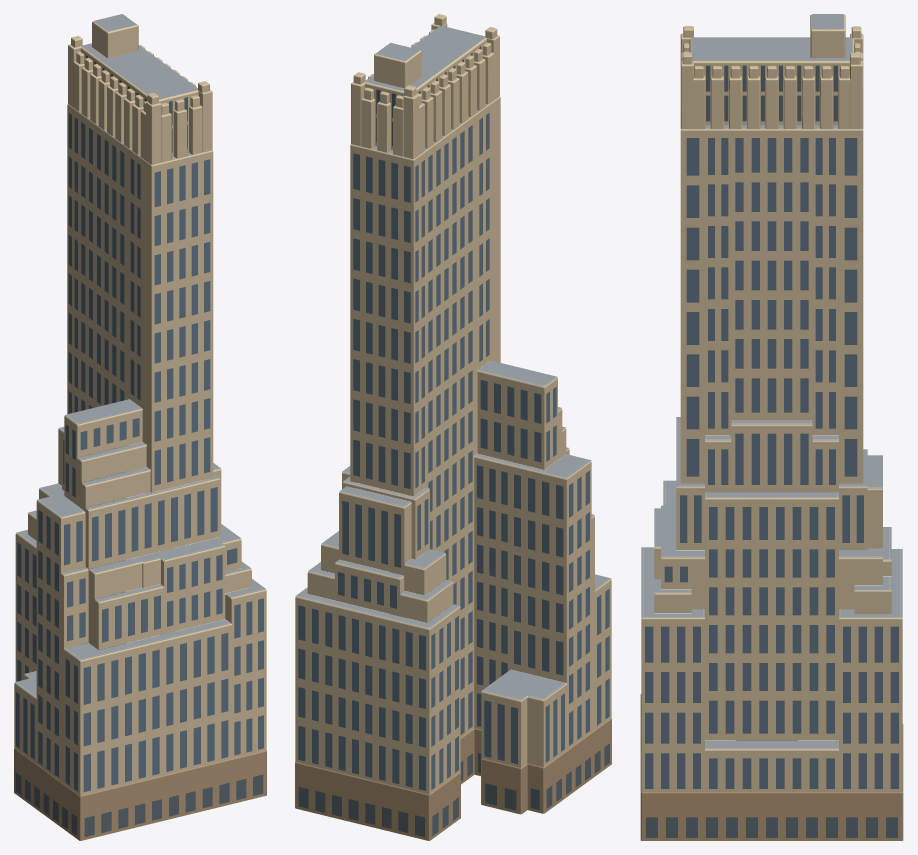
Rendered from nyc-chanin-building.glb.
The picture shows the model from 3 angles, left to right: view 1: azimuth 30°, elevation 25°; view 2: azimuth 150°, elevation 25°; view 3: azimuth 270°, elevation 25°; orthographic projection. The views are drawn at different scales.
Parts seen in each view (by area): view 1: Chanin Building; view 2: Chanin Building; view 3: Chanin Building.
Part boxes in pixels (x1,y1,x2,y2): Chanin Building: [14, 14, 266, 840]; Chanin Building: [295, 14, 611, 840]; Chanin Building: [640, 14, 903, 840].
Bounding box in the file's own units: 53.4 × 197 × 59.9.
